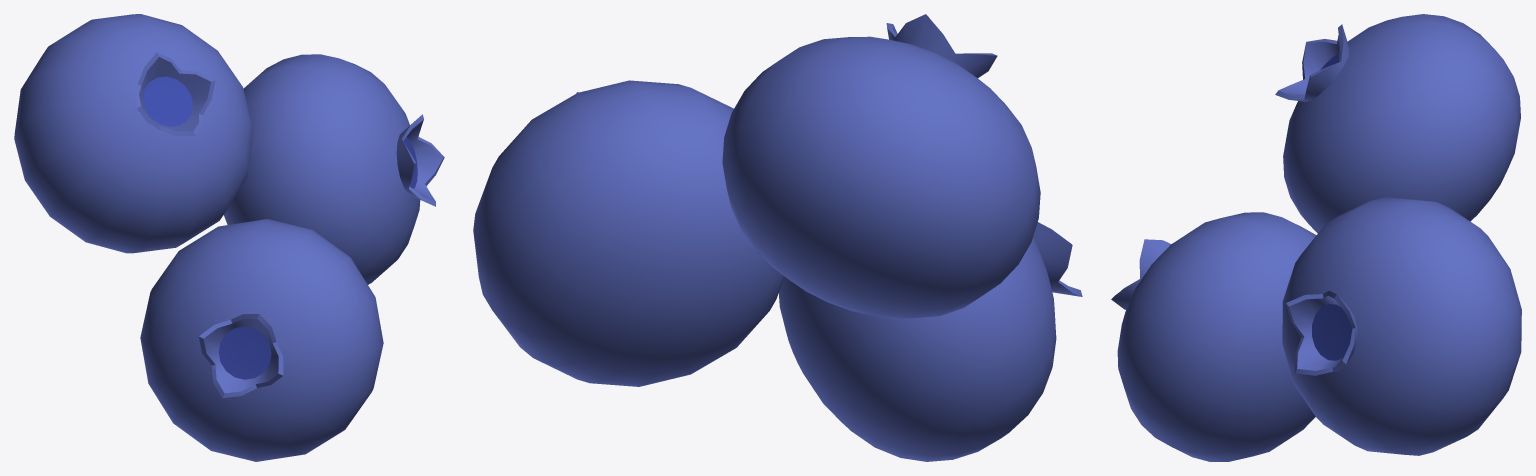
Rendered from blueberries.fbx.
3 views of the same model, side by side, from view 1: azimuth 30°, elevation 25°; view 2: azimuth 150°, elevation 25°; view 3: azimuth 270°, elevation 25° (orthographic). The views are drawn at different scales.
Visible parts, largest first — view 1: Sphere.477; view 2: Sphere.477; view 3: Sphere.477.
Part boxes in pixels (x1,y1,x2,y2): Sphere.477: (14, 14, 444, 461); Sphere.477: (473, 14, 1082, 461); Sphere.477: (1111, 14, 1521, 461).
Bounding box in the file's own units: 217 × 199 × 185.
Materials: 1 (1 with a texture image).
